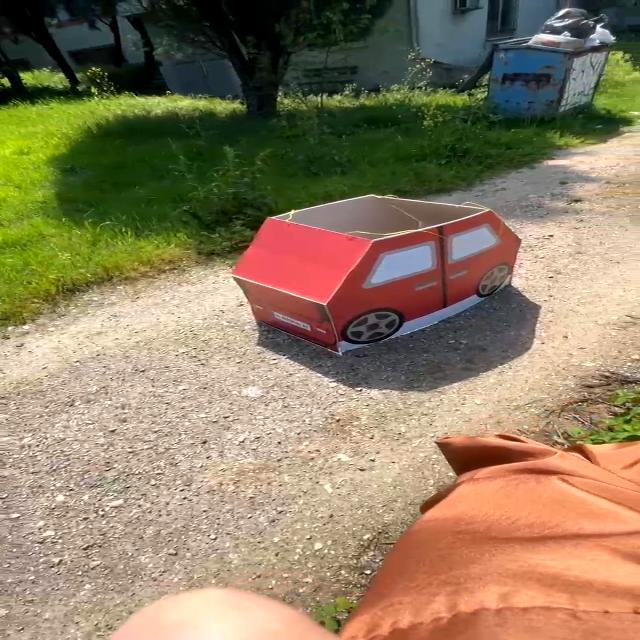red_car: (212, 182, 546, 359)
